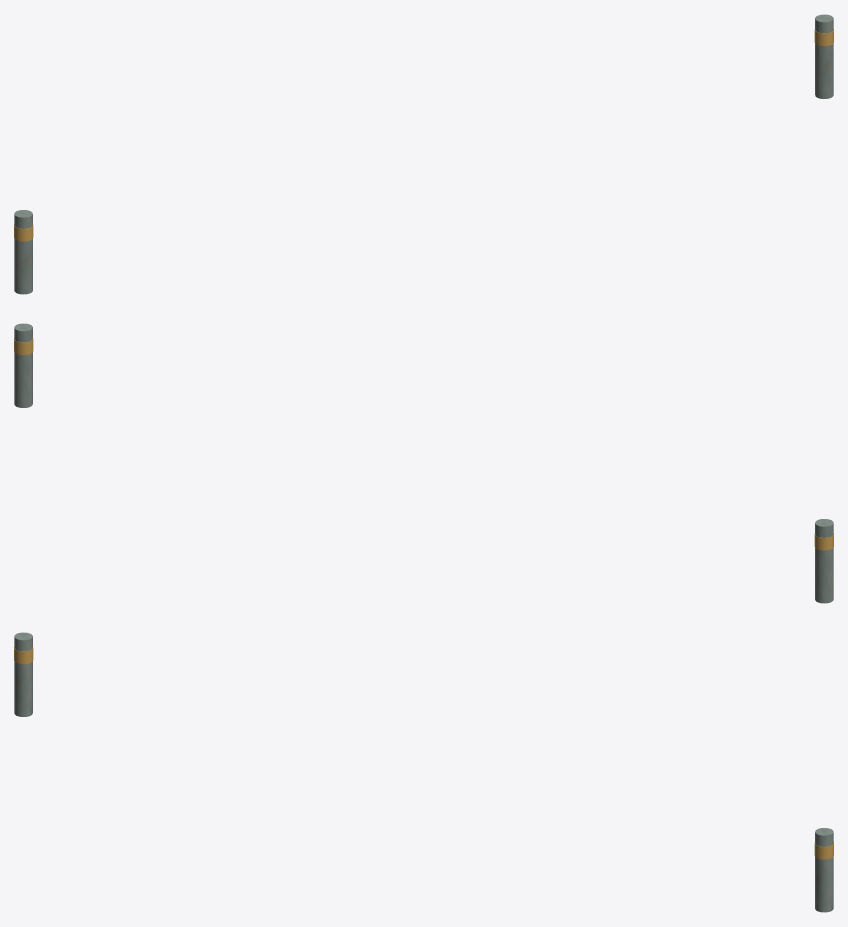
The model's file is Bollards.glb.
The picture shows the model from 3 angles, top to bottom: view 1: azimuth 30°, elevation 25°; view 2: azimuth 150°, elevation 25°; view 3: azimuth 330°, elevation 25°; orthographic projection.
Parts seen in each view (by area): view 1: Bollards; view 2: Bollards; view 3: Bollards.
Part boxes in pixels (x1=…): Bollards: x1=14, y1=14, x2=833, y2=294; Bollards: x1=14, y1=323, x2=833, y2=603; Bollards: x1=14, y1=632, x2=833, y2=912.
Size of the model in its own units: 12.25 by 1.1 by 0.25.
2 materials, 1 textured.
